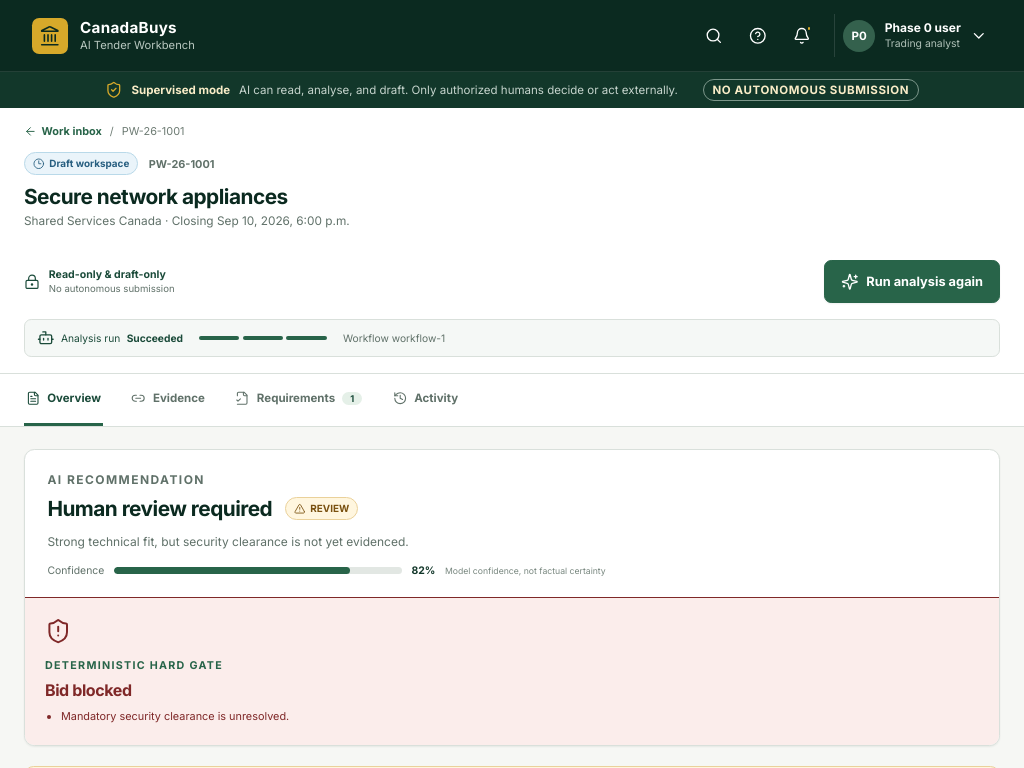
Test: CanadaBuys workbench › shows evidence, hard gate, requirements, and review controls after analysis
The width and height of the screenshot is (1024, 768).
Expected: the heading "Bid blocked" is shown, [45,680,132,700]
Expected: the text "82%" is shown, [412,564,435,577]
Click the tab "Evidence" at (168, 400), box [130,374,206,426]
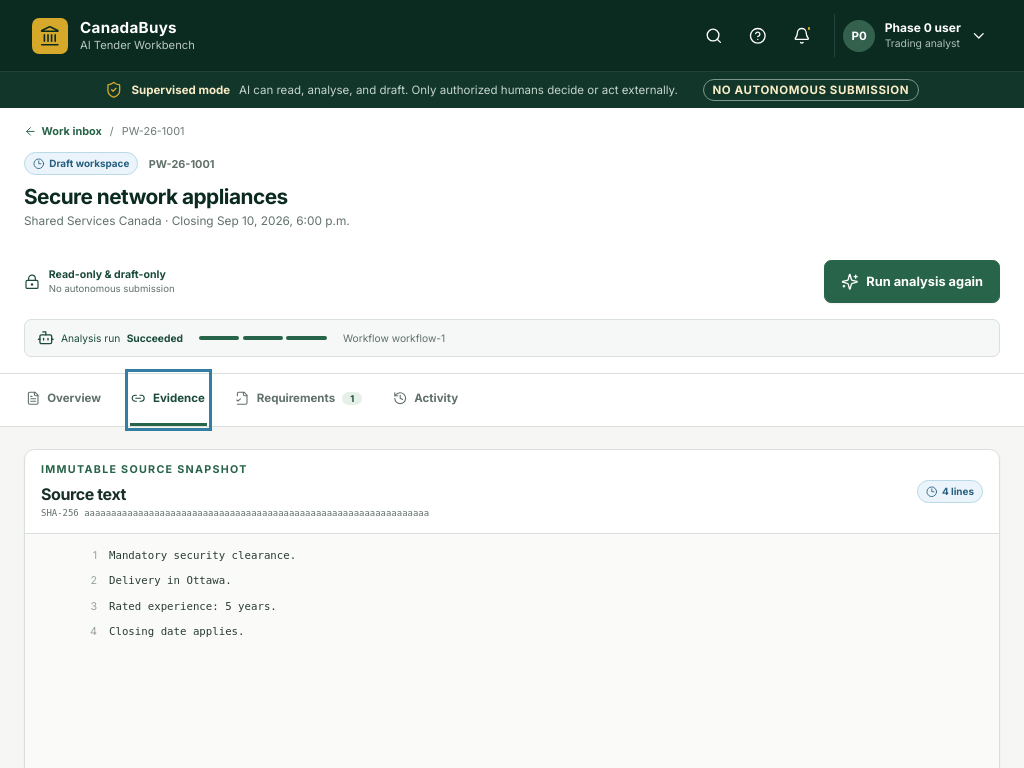
Click the tab "Requirements 1" at (299, 400), box [234,374,364,426]
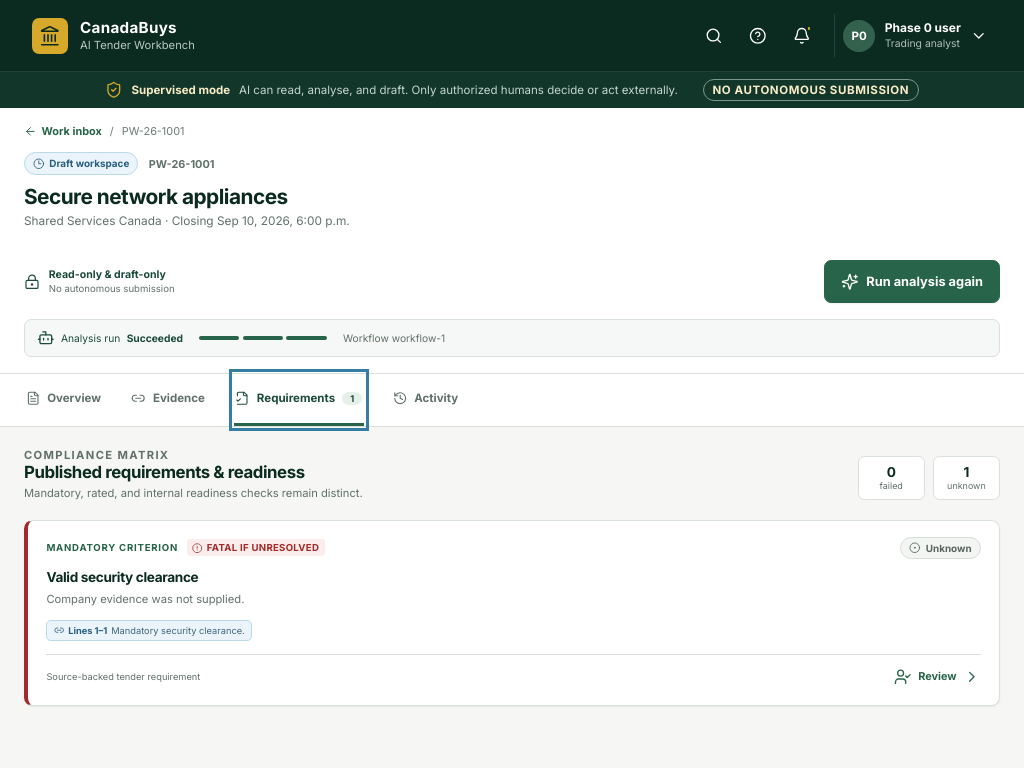
Now the heading "Valid security clearance" is shown, box [46,569,198,585]
Now the text "Fatal if unresolved" is shown, box [187,539,325,556]
Click the button "Review" at (937, 676), box [894,664,981,689]
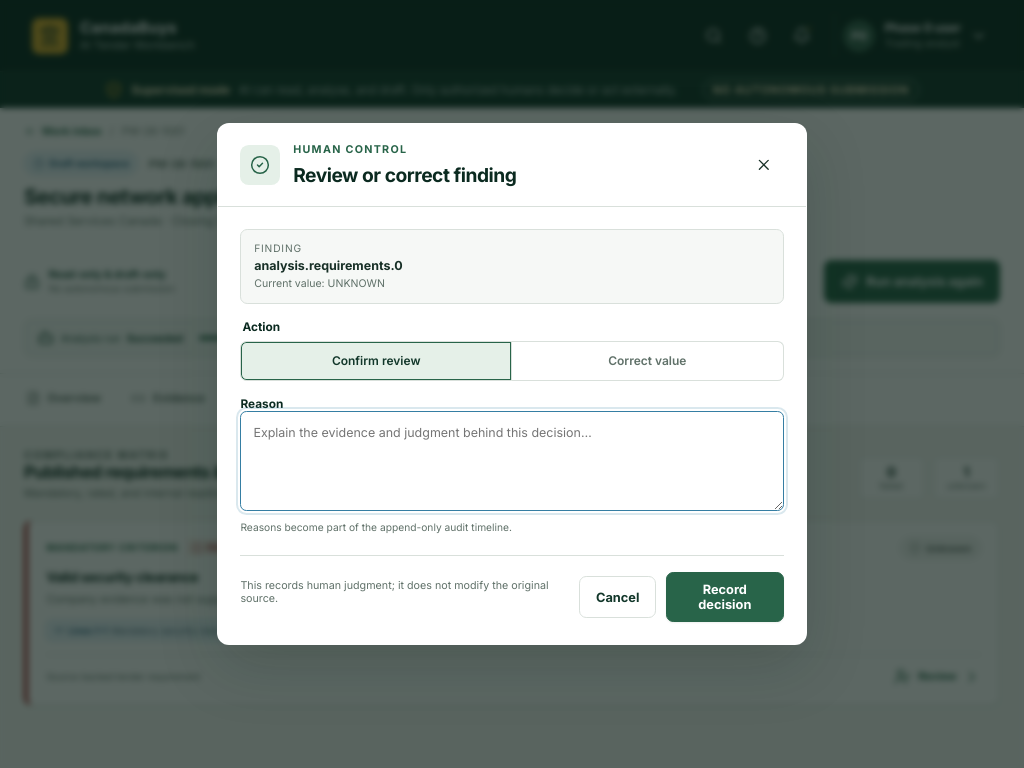
Now the dialog "Review or correct finding" is shown, box [217,123,807,645]
